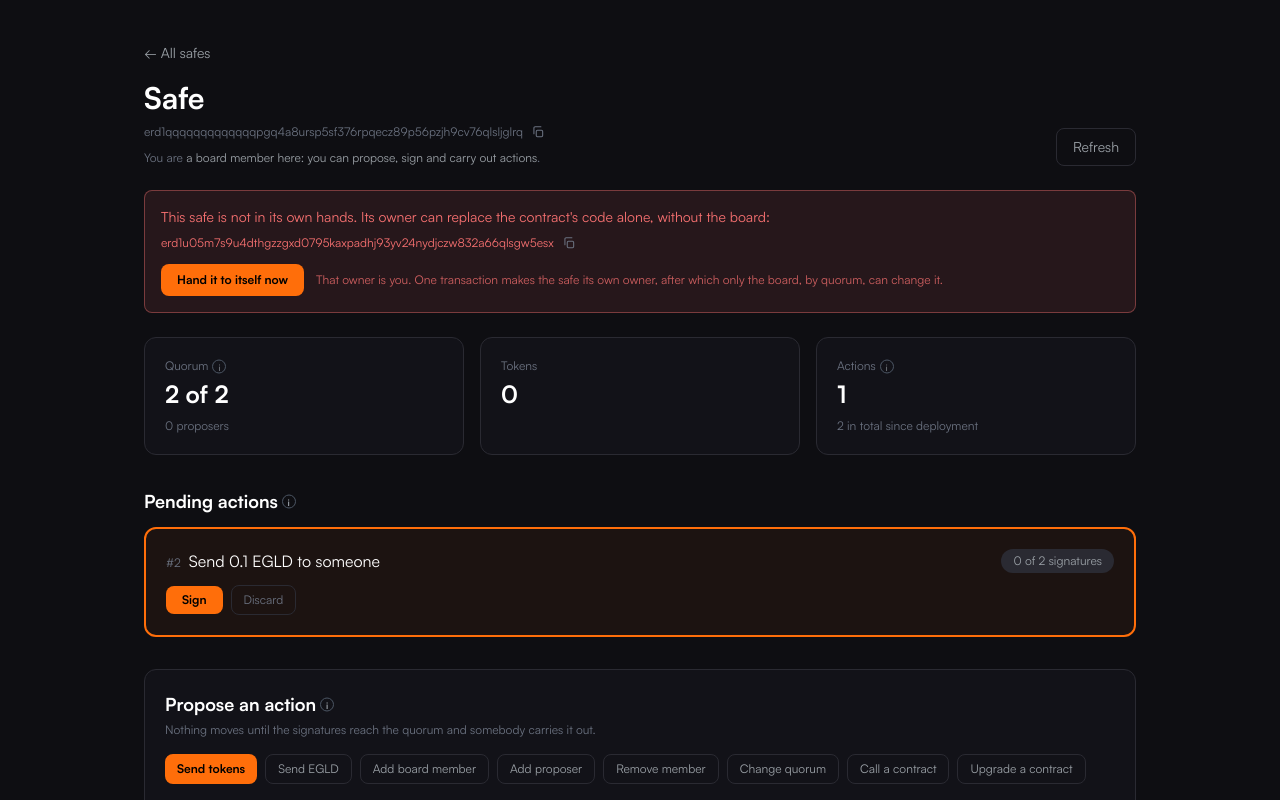
it: control: a handover the wallet signed is reported as sent
Expected: the text "Send 0.1 EGLD to someone" is shown, 189,551 -> 380,571
Click the button "Hand it to itself now". click: (232,280)
box: 161,264 -> 304,296
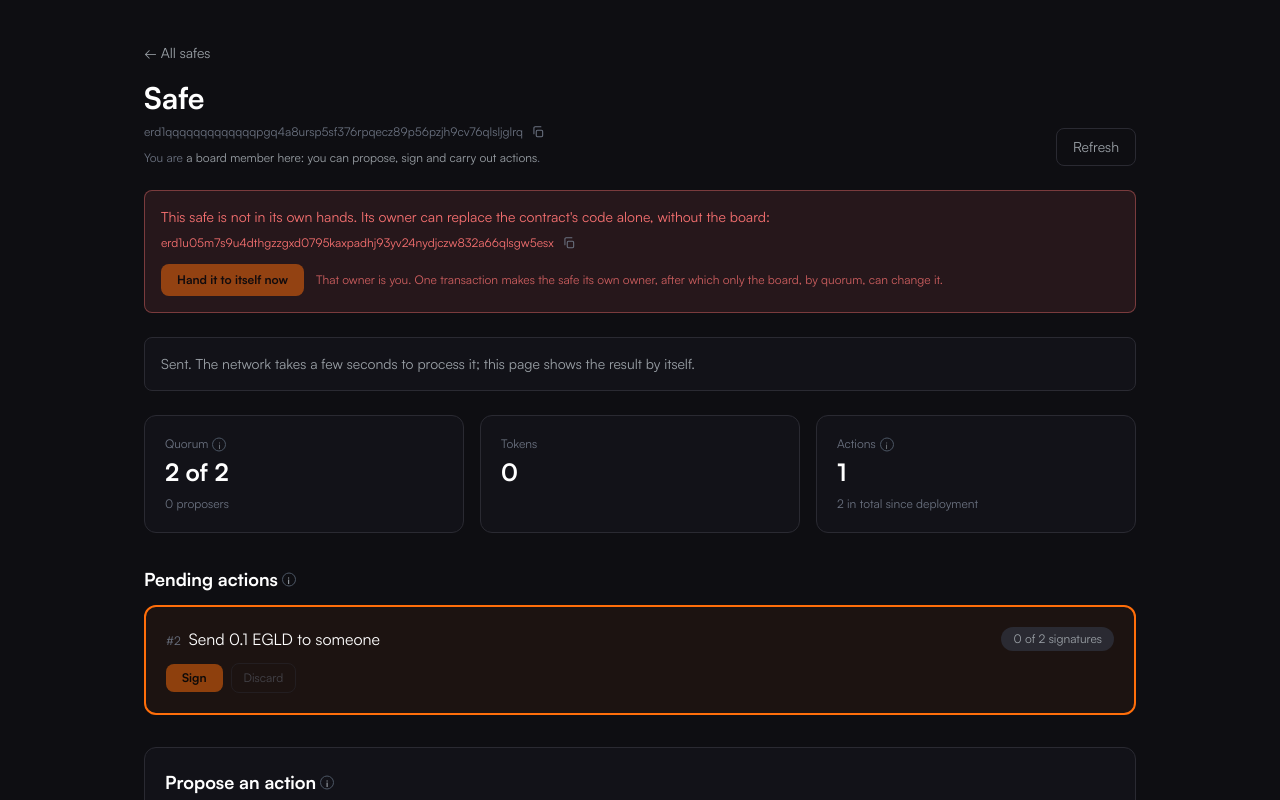
Expected: the text "Sent." is shown, 161,355 -> 695,372
